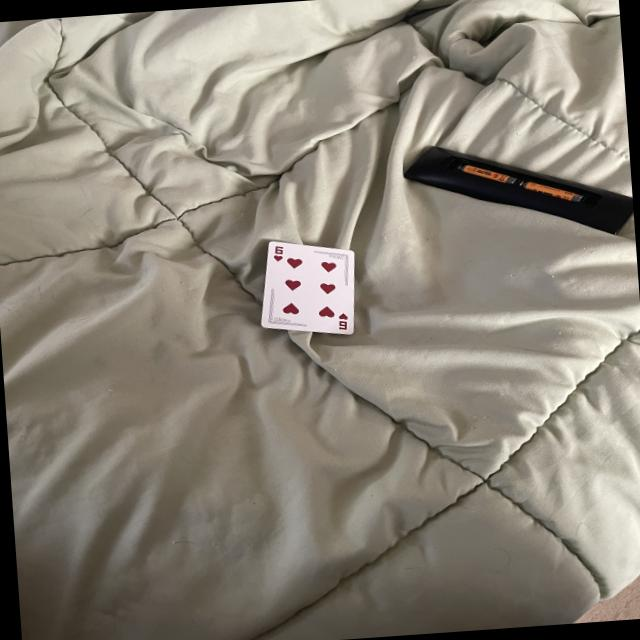6 of hearts: (262, 242, 354, 333)
